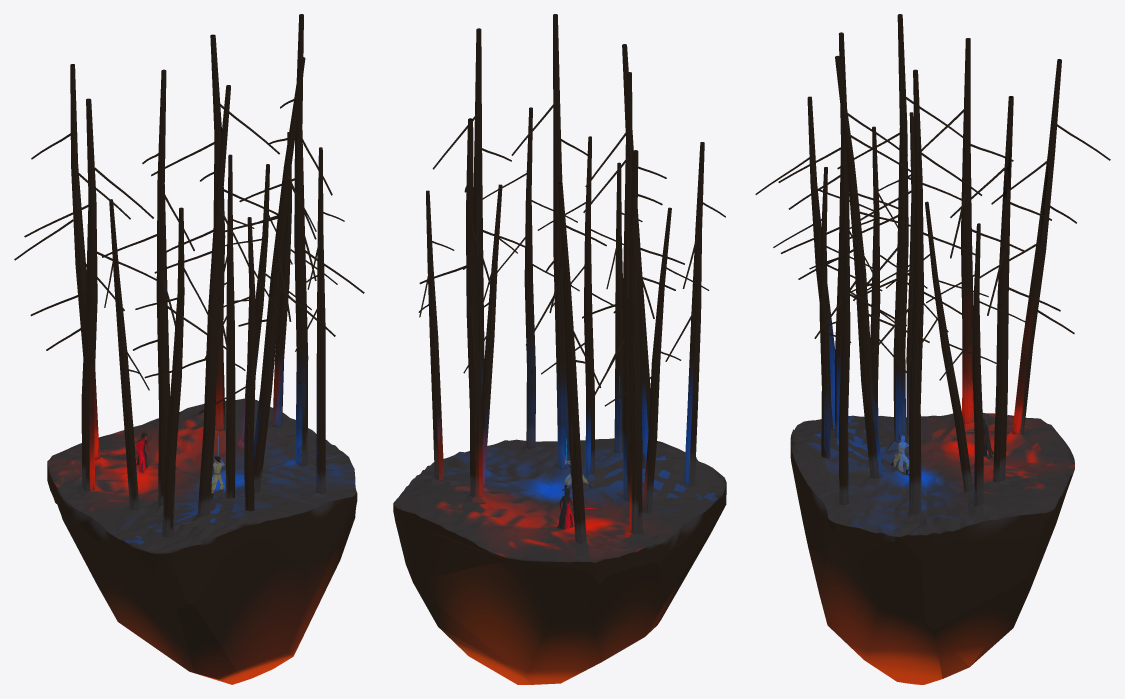
File: ep7Battle.glb
3 renders of one model, left to right at view 1: azimuth 30°, elevation 25°; view 2: azimuth 150°, elevation 25°; view 3: azimuth 270°, elevation 25°, orthographic.
Parts seen in each view (by area): view 1: Plane; view 2: Plane; view 3: Plane.
Boxes of the visible parts, x1,y1,x2,y2 form: Plane: (14, 14, 364, 684); Plane: (393, 14, 726, 684); Plane: (755, 14, 1110, 684).
Bounding box in the file's own units: 4518 × 10094 × 5089.
Materials: 5 (5 with a texture image).
